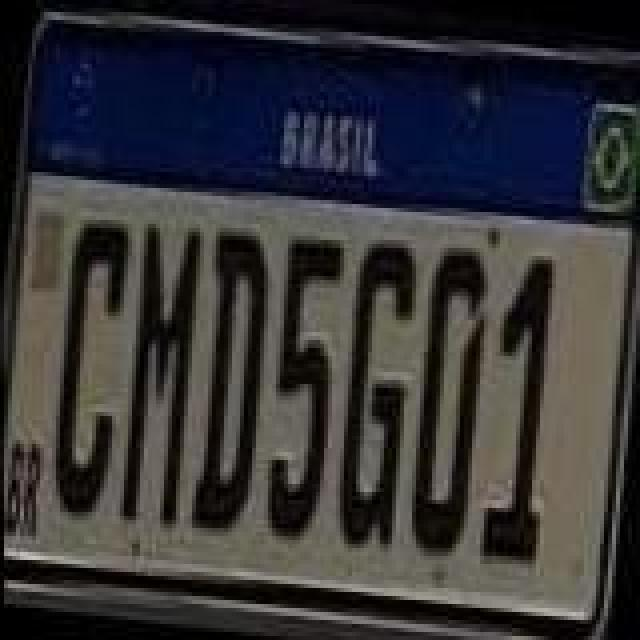1: (470, 246, 574, 570)
5: (250, 226, 354, 550)
C: (40, 212, 140, 524)
D: (394, 238, 498, 562), (180, 222, 280, 538)
G: (326, 236, 430, 556)
M: (112, 220, 212, 532)
